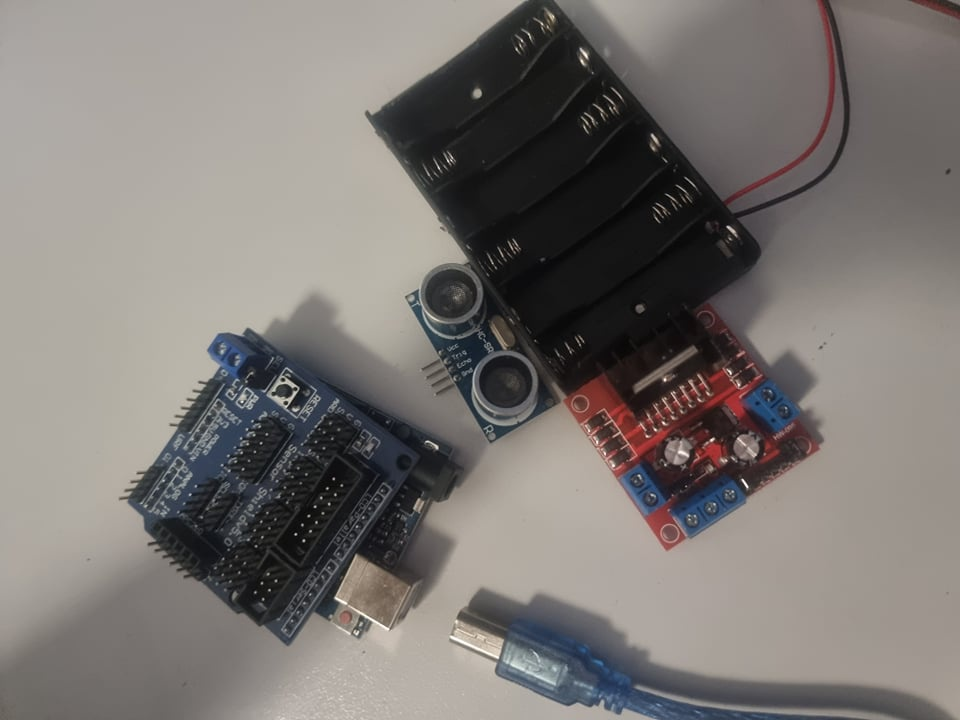5V EXPANSION: (115, 327, 340, 652)
BATTERY BOX: (367, 1, 768, 340)
MOTOR: (564, 297, 823, 558)
SENSOR: (406, 264, 554, 443)
UNO R3: (340, 445, 474, 690)
